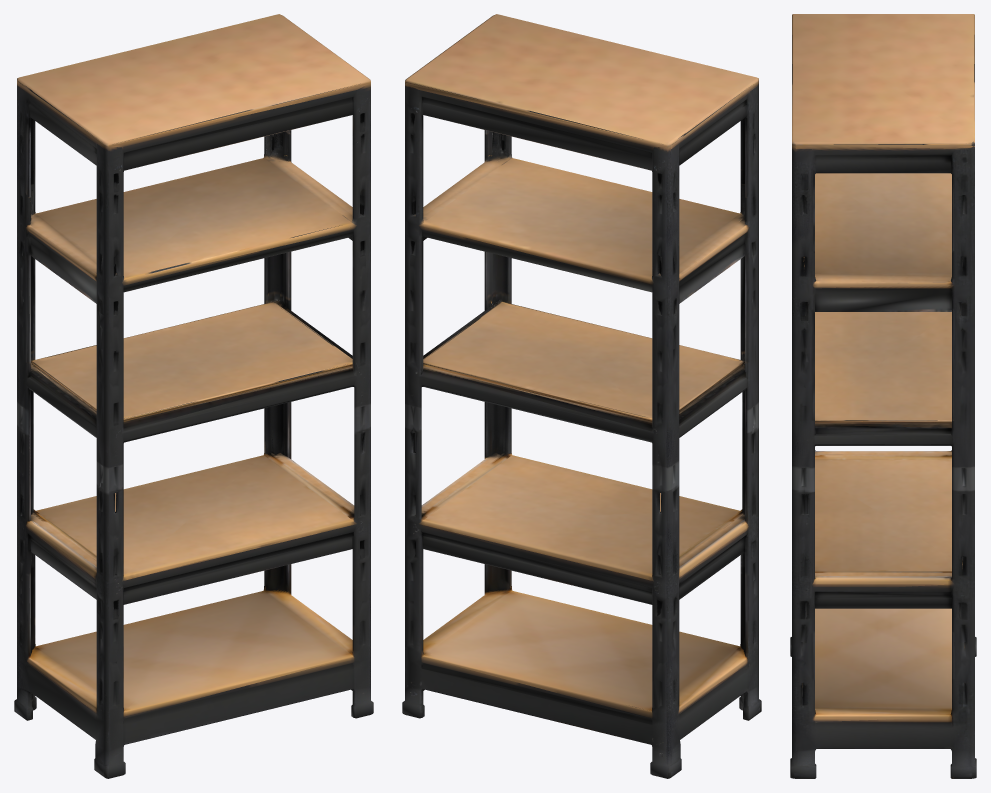
The model's file is Meshy_AI_Metal_Shelving_Unit_0105203234_texture.fbx.
3 renders of one model, left to right at view 1: azimuth 30°, elevation 25°; view 2: azimuth 150°, elevation 25°; view 3: azimuth 270°, elevation 25°, orthographic.
Visible parts, largest first — view 1: Mesh_0; view 2: Mesh_0; view 3: Mesh_0.
Boxes of the visible parts, left/top/right/bottom form: Mesh_0: left=14, top=14, right=373, bottom=778; Mesh_0: left=402, top=14, right=761, bottom=778; Mesh_0: left=790, top=14, right=976, bottom=778.
Size of the model in its own units: 84.15 by 191 by 50.49.
1 material, 1 textured.
